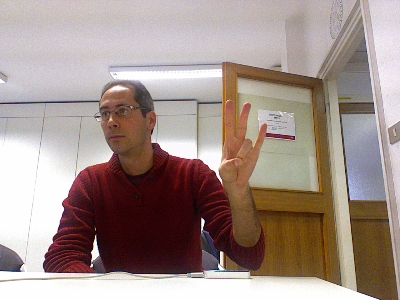观音: (217, 98, 267, 186)
